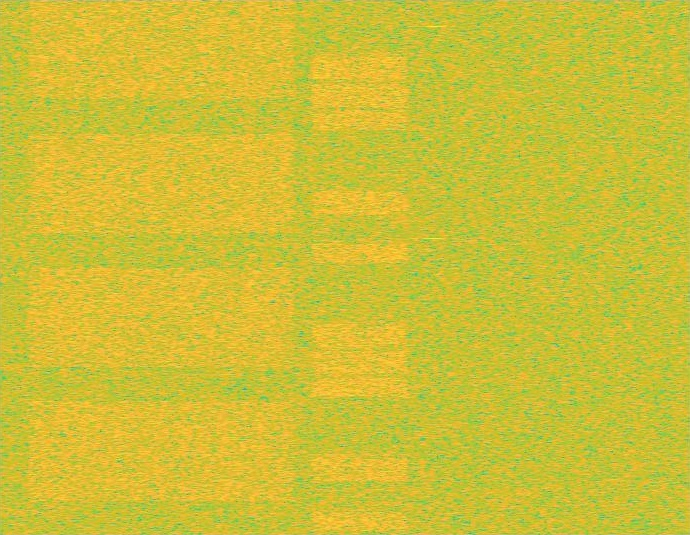5G: (23, 0, 299, 534)
LTE: (308, 0, 412, 534)
Radar: (428, 0, 441, 534)
